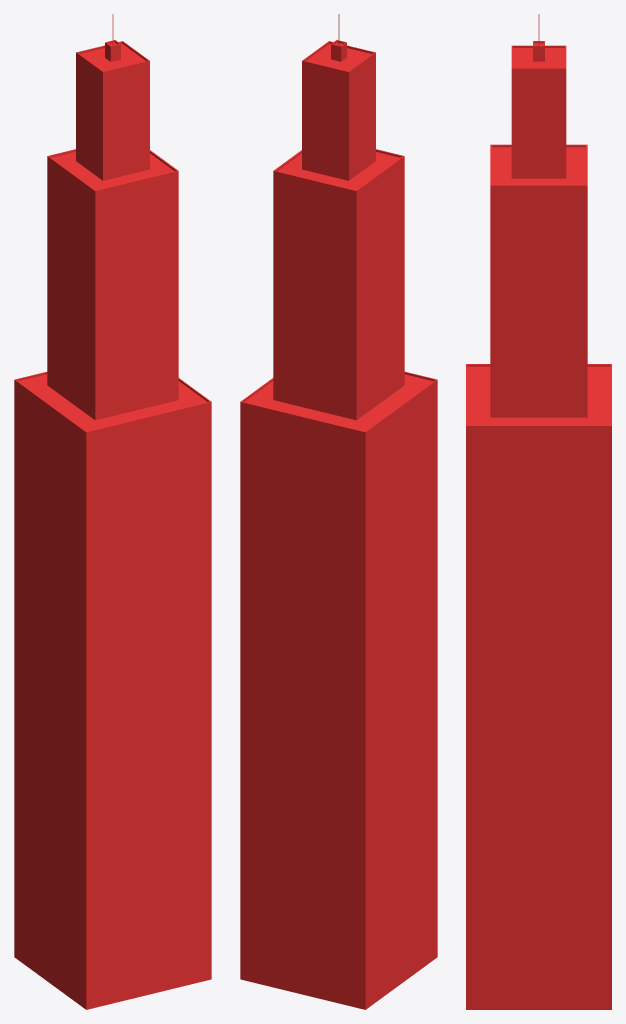
Rendered from Building_03_4.FBX.
3 renders of one model, left to right at view 1: azimuth 30°, elevation 25°; view 2: azimuth 150°, elevation 25°; view 3: azimuth 270°, elevation 25°, orthographic.
Parts seen in each view (by area): view 1: Building_03_4; view 2: Building_03_4; view 3: Building_03_4.
Boxes of the visible parts, bbox=[...] form: Building_03_4: bbox=[14, 14, 211, 1009]; Building_03_4: bbox=[240, 14, 437, 1009]; Building_03_4: bbox=[466, 14, 611, 1009].
Bounding box in the file's own units: 35947 × 261623 × 35838.
